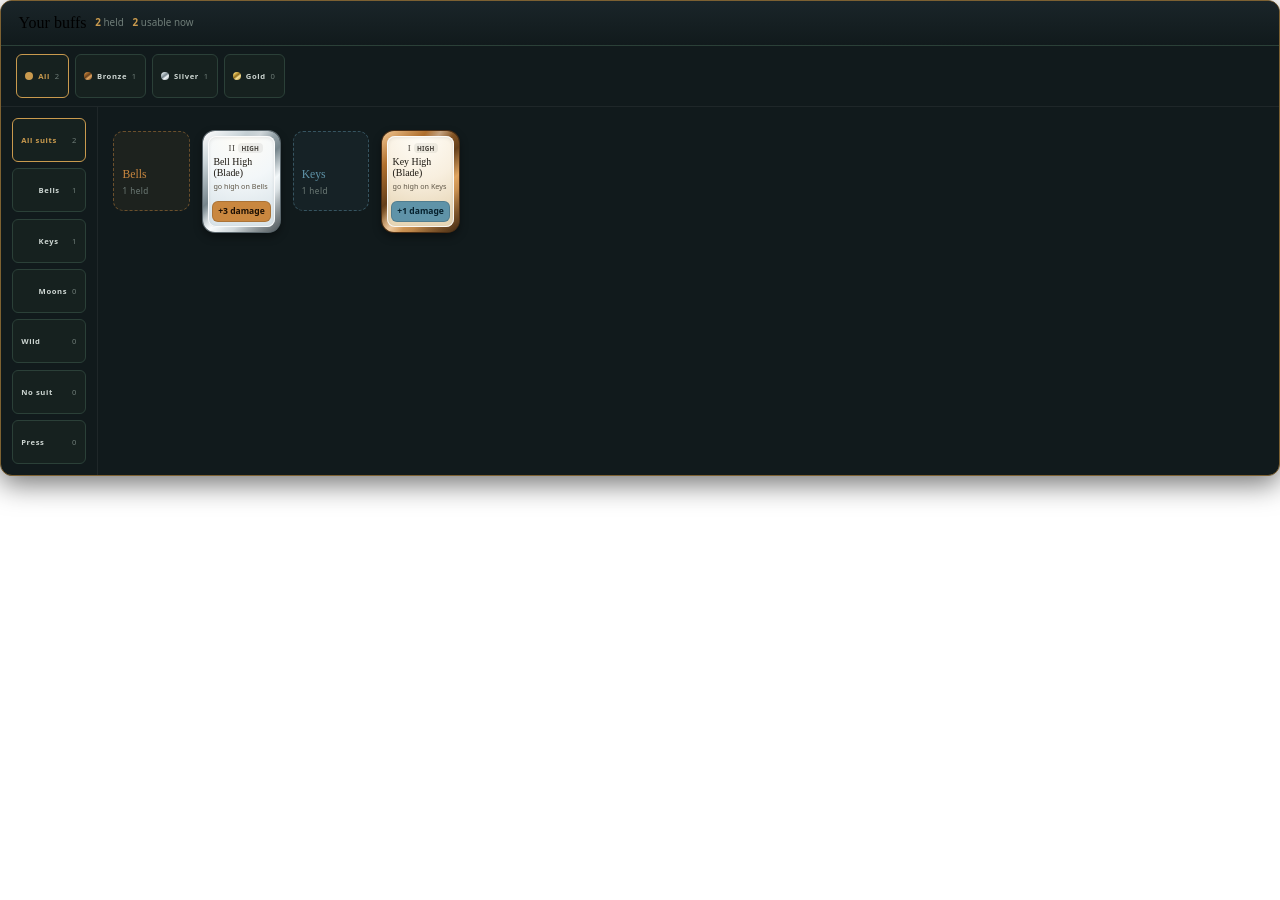
Test: BuffGallery — AC8 the suit filter composes with the tier filter › an empty intersection renders its own line rather than an empty grid
Step 1. Click the button "Silver 1" → (185, 76), box [152,54,218,98]
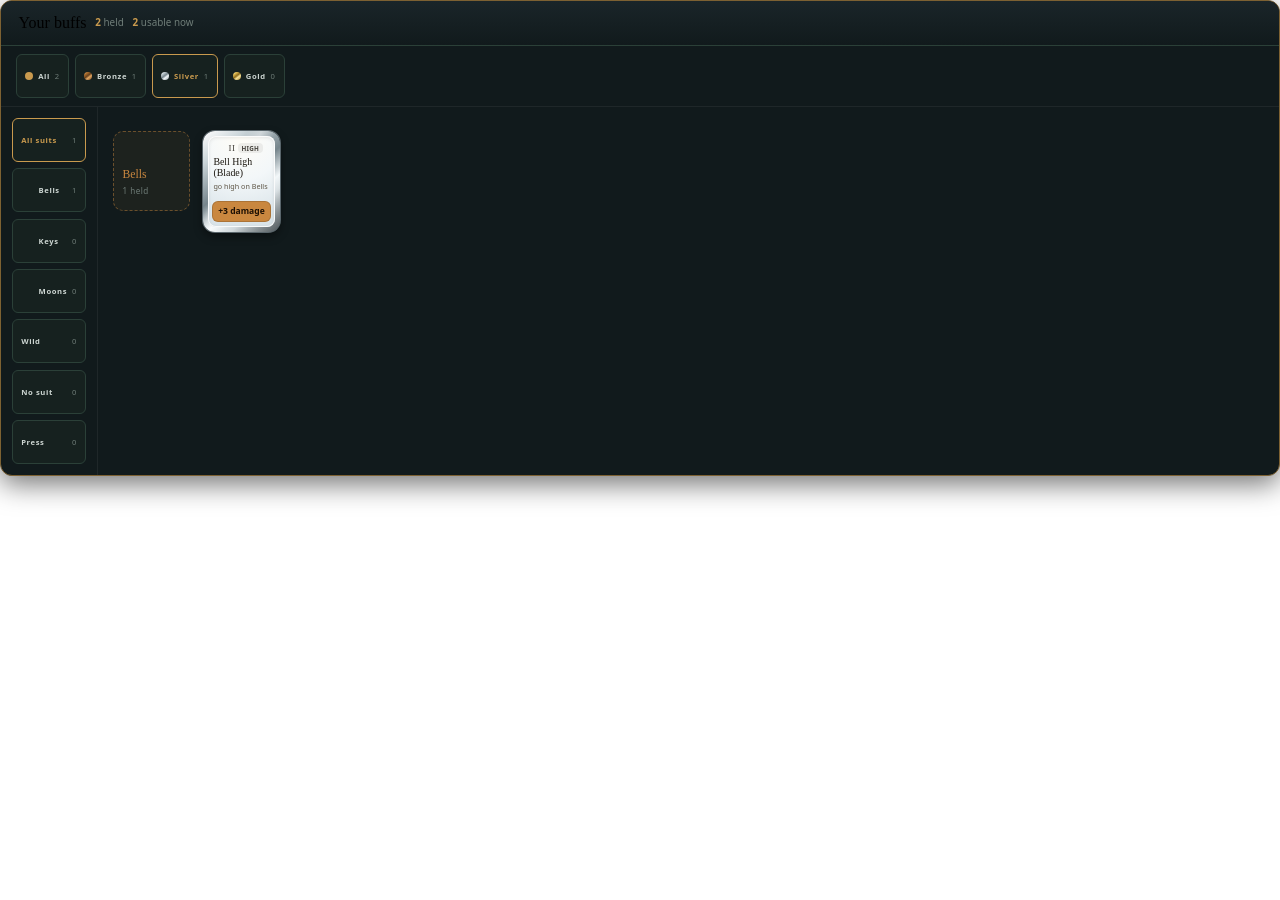
Step 2. Click the button "Keys 0" → (49, 240), box [12,218,86,262]
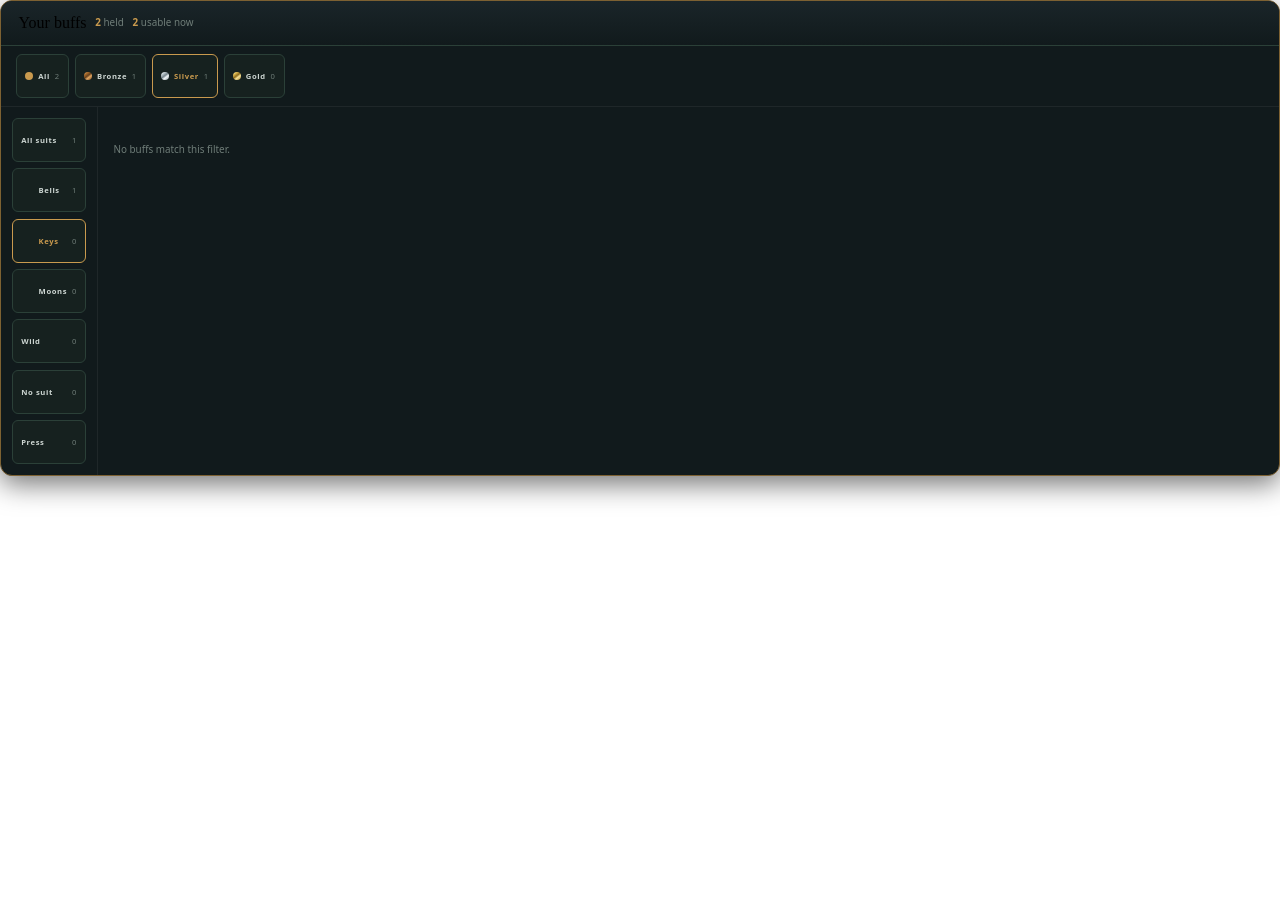
Now no the button "II HIGH Bell High (Blade) go high on Bells +3 damage" are shown
Now the text "No buffs match this filter." is shown, box [114,142,230,156]
